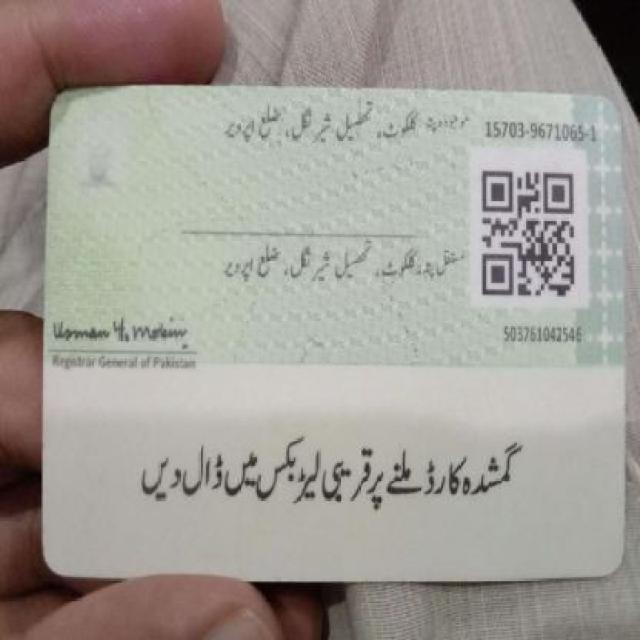Back: (37, 74, 631, 592)
